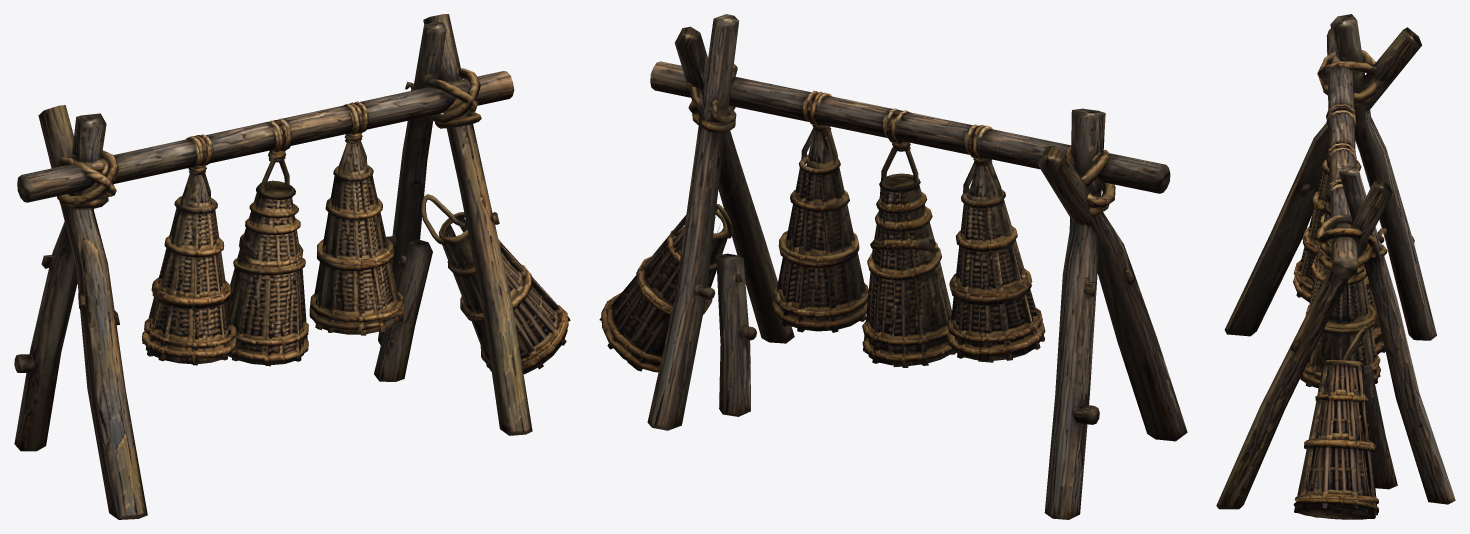
The model's file is act1_kit_v1_eel_trap_rack.glb.
3 views of the same model, side by side, from view 1: azimuth 30°, elevation 25°; view 2: azimuth 150°, elevation 25°; view 3: azimuth 270°, elevation 25° (orthographic). The views are drawn at different scales.
Parts seen in each view (by area): view 1: act1_kit_v1_eel_trap_rack; view 2: act1_kit_v1_eel_trap_rack; view 3: act1_kit_v1_eel_trap_rack.
Part boxes in pixels (x1,y1,x2,y2): act1_kit_v1_eel_trap_rack: (14, 14, 570, 519); act1_kit_v1_eel_trap_rack: (599, 14, 1187, 519); act1_kit_v1_eel_trap_rack: (1216, 14, 1455, 519).
Size of the model in its own units: 1 by 0.6381 by 0.422.
1 material, 1 textured.
